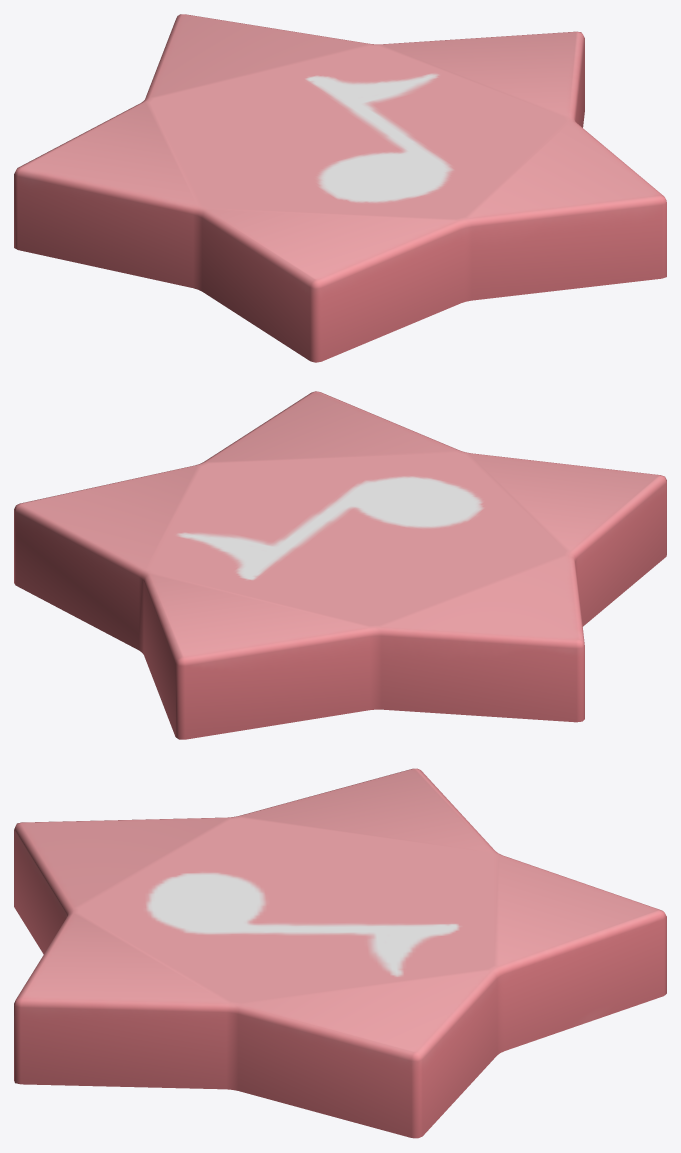
File: vocal_fan.glb
3 renders of one model, top to bottom at view 1: azimuth 30°, elevation 25°; view 2: azimuth 150°, elevation 25°; view 3: azimuth 270°, elevation 25°, orthographic. The views are drawn at different scales.
Parts seen in each view (by area): view 1: vocal_fan; view 2: vocal_fan; view 3: vocal_fan.
Part boxes in pixels (<box>): vocal_fan: <box>14,14,666,362</box>; vocal_fan: <box>14,391,666,739</box>; vocal_fan: <box>14,768,666,1138</box>.
Size of the model in its own units: 0.439 by 0.0587 by 0.4182.
1 material, 1 textured.
